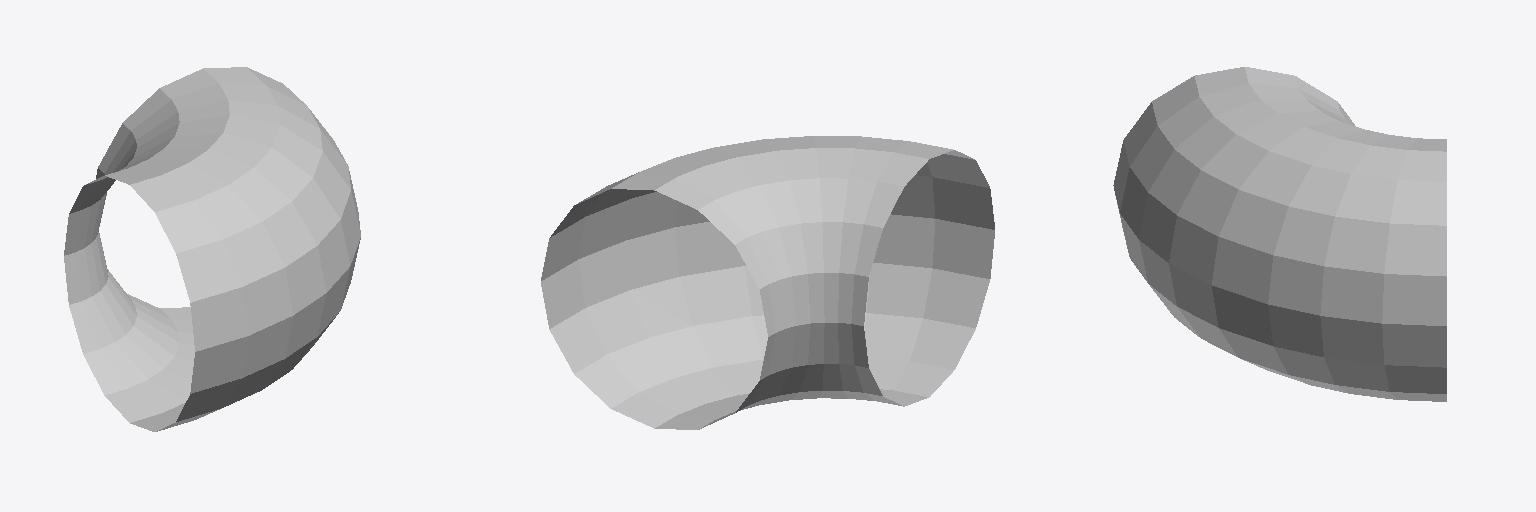
Rendered from SnakeBodyPartElbowTL.obj.
3 views of the same model, side by side, from view 1: azimuth 30°, elevation 25°; view 2: azimuth 150°, elevation 25°; view 3: azimuth 270°, elevation 25° (orthographic).
Visible parts, largest first — view 1: SnakeBodyPart; view 2: SnakeBodyPart; view 3: SnakeBodyPart.
Part boxes in pixels (bbox=[...]): SnakeBodyPart: bbox=[64, 67, 360, 431]; SnakeBodyPart: bbox=[541, 136, 994, 429]; SnakeBodyPart: bbox=[1113, 67, 1446, 401].
Size of the model in its own units: 0.8229 by 0.65 by 0.8243.